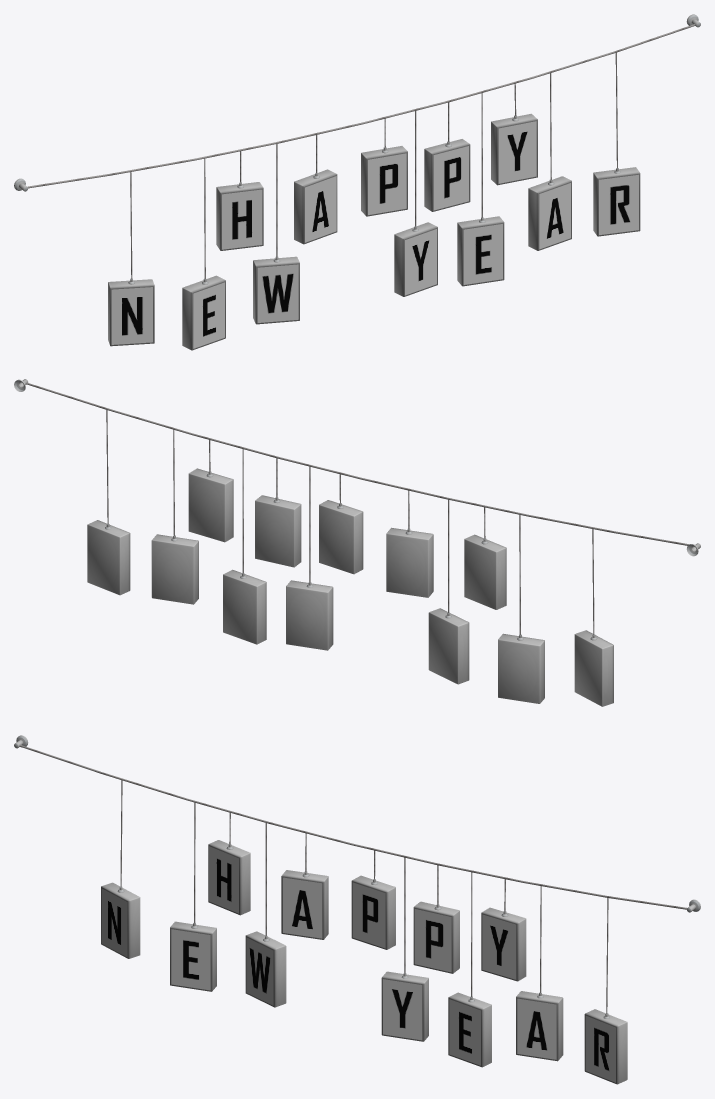
Rendered from LettersLightBox01_GR4.FBX.
3 views of the same model, one above another, from view 1: azimuth 30°, elevation 25°; view 2: azimuth 150°, elevation 25°; view 3: azimuth 330°, elevation 25° (orthographic).
Parts seen in each view (by area): view 1: LettersLightBox01_GR4; view 2: LettersLightBox01_GR4; view 3: LettersLightBox01_GR4.
Part boxes in pixels (box(x1,y1,x2,y2)): LettersLightBox01_GR4: box(14, 14, 700, 350); LettersLightBox01_GR4: box(14, 379, 700, 706); LettersLightBox01_GR4: box(14, 735, 700, 1084).
Size of what is drawn, in the model's own units: 3.06 by 0.8891 by 0.1184.
